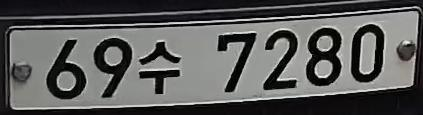0: (345, 23, 390, 83)
2: (260, 25, 301, 92)
6: (41, 33, 92, 103)
7: (212, 31, 260, 95)
8: (301, 23, 346, 89)
9: (91, 33, 136, 102)
수: (135, 39, 189, 98)
